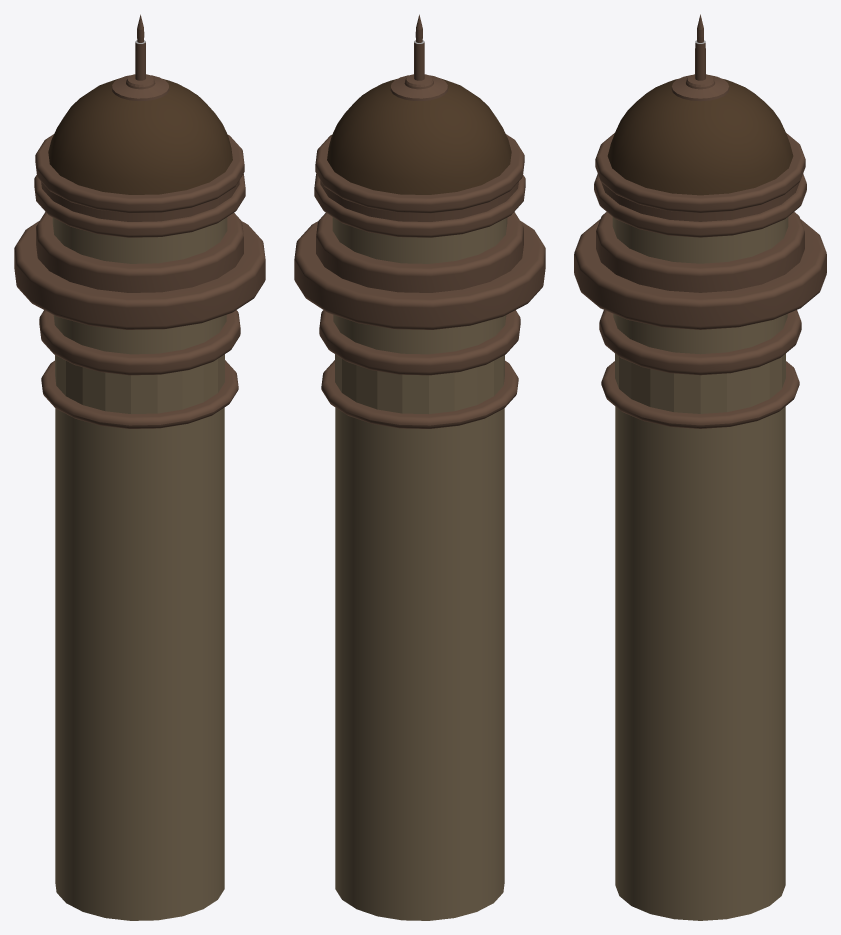
File: TallRBuilding.fbx
3 renders of one model, left to right at view 1: azimuth 30°, elevation 25°; view 2: azimuth 150°, elevation 25°; view 3: azimuth 270°, elevation 25°, orthographic.
Visible parts, largest first — view 1: TallSphere; view 2: TallSphere; view 3: TallSphere.
Boxes of the visible parts, x1=… form: TallSphere: x1=14, y1=14, x2=265, y2=920; TallSphere: x1=294, y1=14, x2=545, y2=920; TallSphere: x1=574, y1=14, x2=826, y2=920.
Size of the model in its own units: 11.3 by 42.95 by 11.3.
